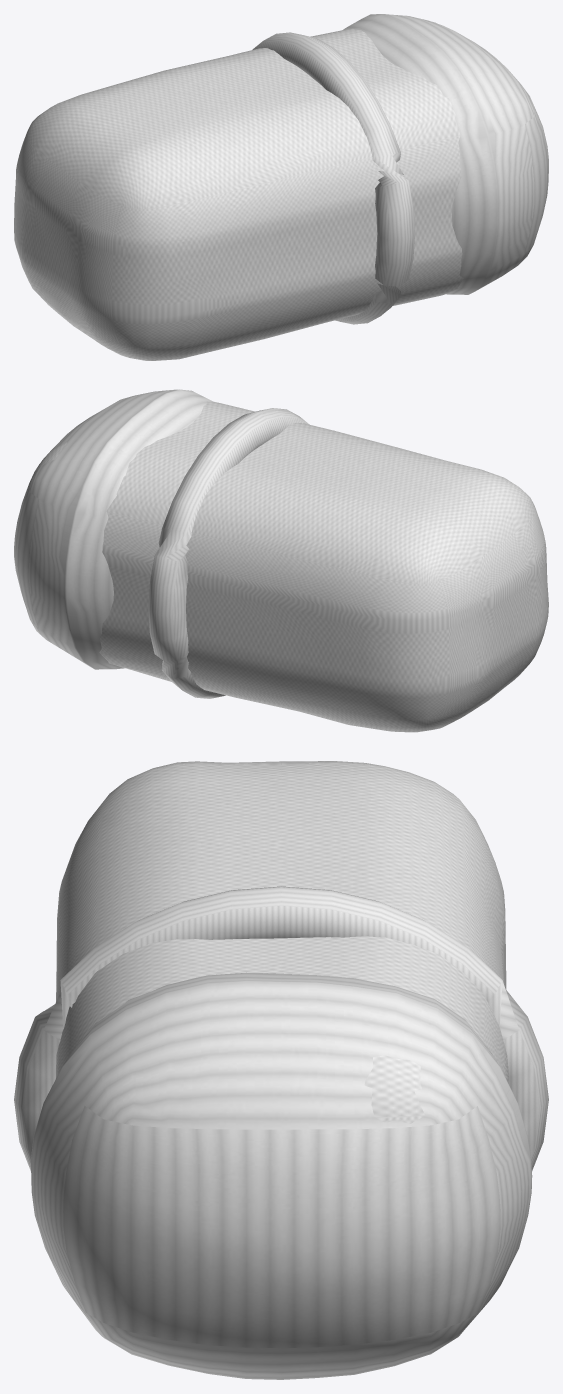
Rendered from socks.glb.
3 renders of one model, top to bottom at view 1: azimuth 30°, elevation 25°; view 2: azimuth 150°, elevation 25°; view 3: azimuth 270°, elevation 25°, orthographic. The views are drawn at different scales.
Parts seen in each view (by area): view 1: socks_bundle, socks_cuff, socks_edge; view 2: socks_bundle, socks_cuff, socks_edge; view 3: socks_cuff, socks_bundle, socks_edge.
Boxes of the visible parts, x1,y1,x2,y2 form: socks_bundle: [14, 22, 498, 360]; socks_cuff: [342, 14, 548, 294]; socks_edge: [252, 32, 414, 324]; socks_bundle: [33, 401, 548, 732]; socks_cuff: [14, 389, 213, 669]; socks_edge: [148, 408, 309, 698]; socks_cuff: [31, 972, 532, 1379]; socks_bundle: [56, 761, 508, 1123]; socks_edge: [14, 886, 548, 1170].
Size of the model in its own units: 12.08 by 6.54 by 7.48.
2 materials, 2 textured.
